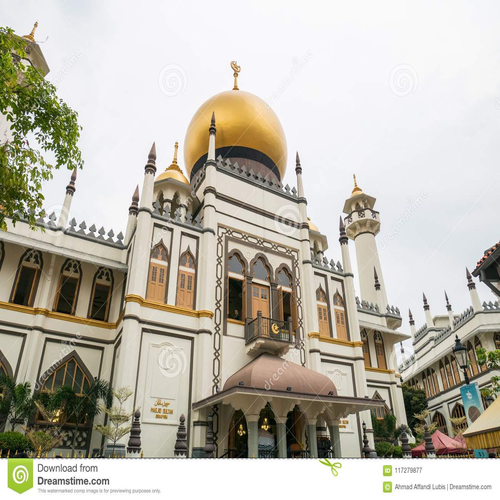Mosque: (106, 42, 399, 449)
